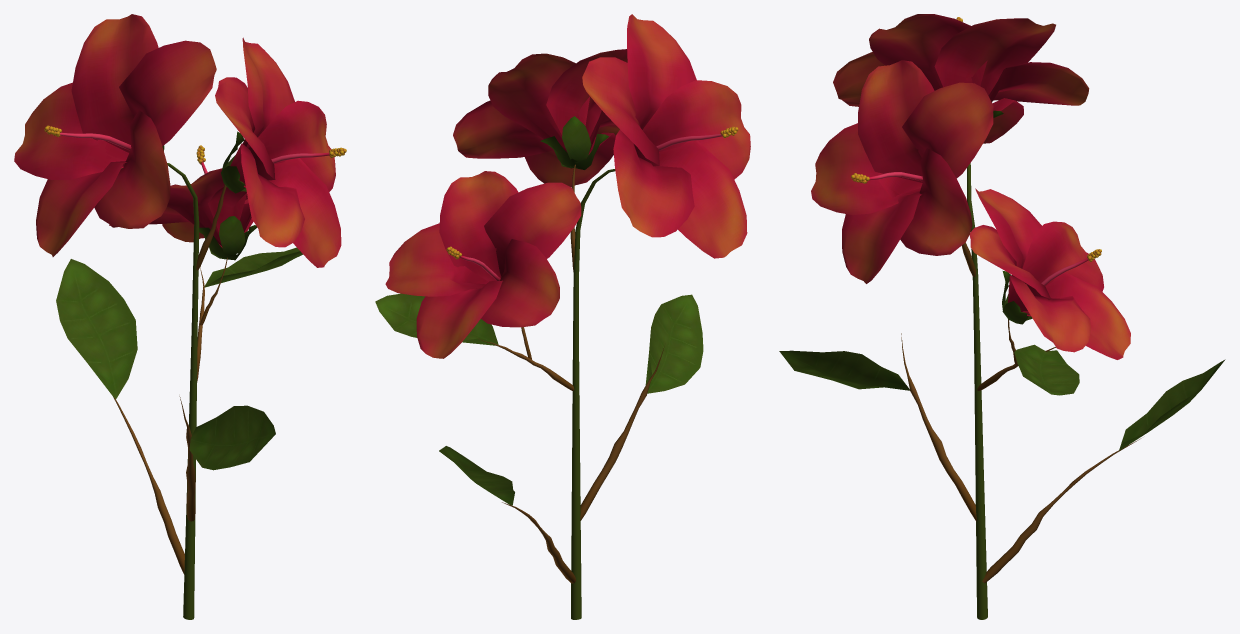
The model's file is PRP_GiantFlower.glb.
3 views of the same model, side by side, from view 1: azimuth 30°, elevation 25°; view 2: azimuth 150°, elevation 25°; view 3: azimuth 270°, elevation 25° (orthographic). The views are drawn at different scales.
Parts seen in each view (by area): view 1: Object_3; view 2: Object_3; view 3: Object_3.
Boxes of the visible parts, x1=… form: Object_3: x1=14, y1=14, x2=346, y2=619; Object_3: x1=375, y1=14, x2=750, y2=619; Object_3: x1=779, y1=14, x2=1225, y2=619.
Size of the model in its own units: 6.92 by 12.16 by 8.3.
Materials: 2 (2 with a texture image).
